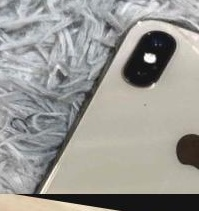scratch: (134, 98, 155, 111), (141, 28, 155, 39)
